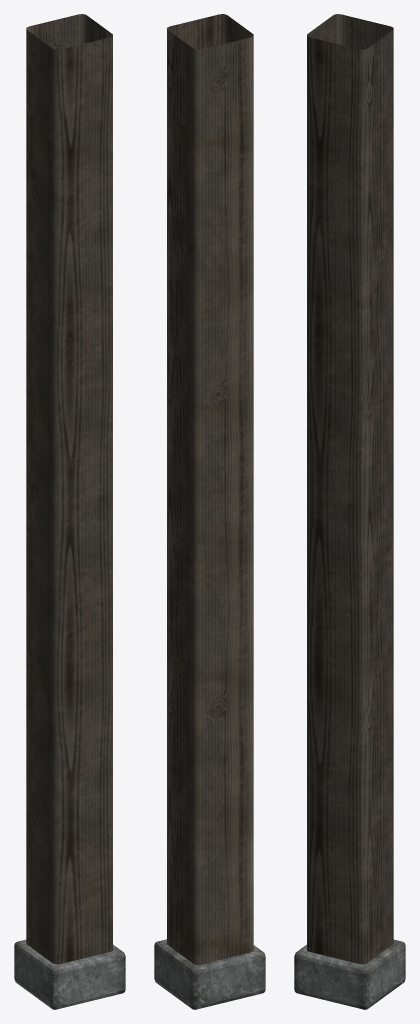
The model's file is ShrineModule_Piller-03.fbx.
The picture shows the model from 3 angles, left to right: view 1: azimuth 30°, elevation 25°; view 2: azimuth 210°, elevation 25°; view 3: azimuth 330°, elevation 25°; orthographic projection.
Visible parts, largest first — view 1: ShrineModule_Piller-03; view 2: ShrineModule_Piller-03; view 3: ShrineModule_Piller-03.
Boxes of the visible parts, box(x1,y1,x2,y2) form: ShrineModule_Piller-03: box(14, 14, 125, 1009); ShrineModule_Piller-03: box(154, 14, 265, 1009); ShrineModule_Piller-03: box(294, 14, 405, 1009).
Size of the model in its own units: 0.3443 by 4.25 by 0.3259.
